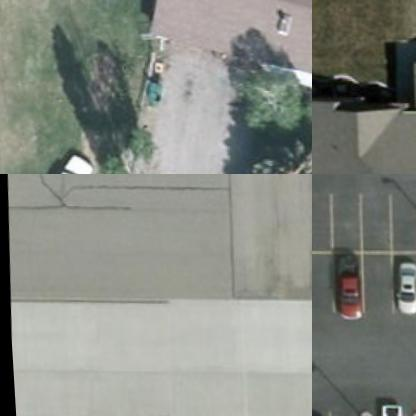car: (318, 257, 360, 322), (386, 257, 415, 318), (39, 146, 92, 173)
